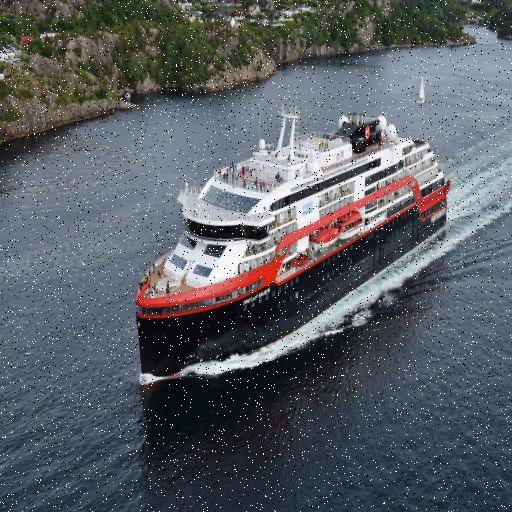cruises: (132, 100, 453, 388)
